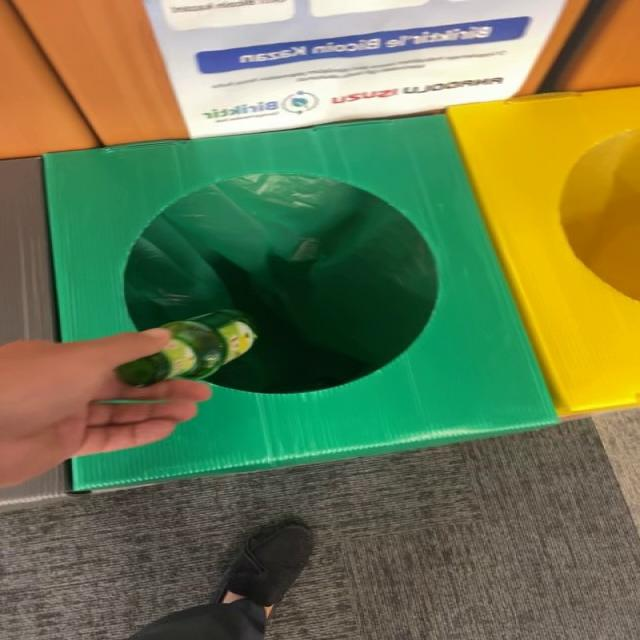glass: (115, 310, 257, 387)
